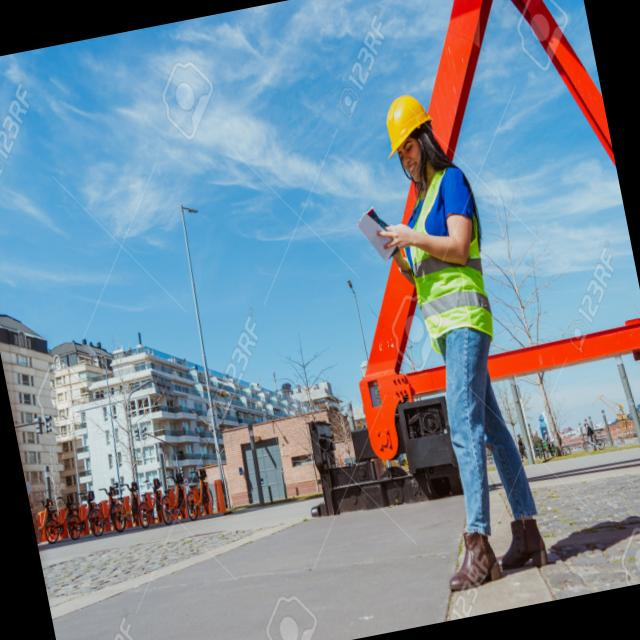goggles: (389, 135, 429, 162)
helmet: (367, 86, 442, 156)
vest: (378, 157, 504, 346)
